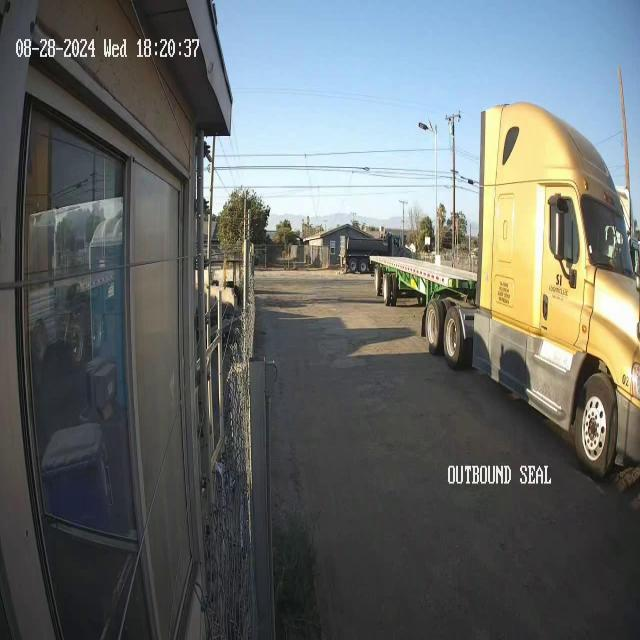TRUCK_IN: (369, 97, 639, 480)
